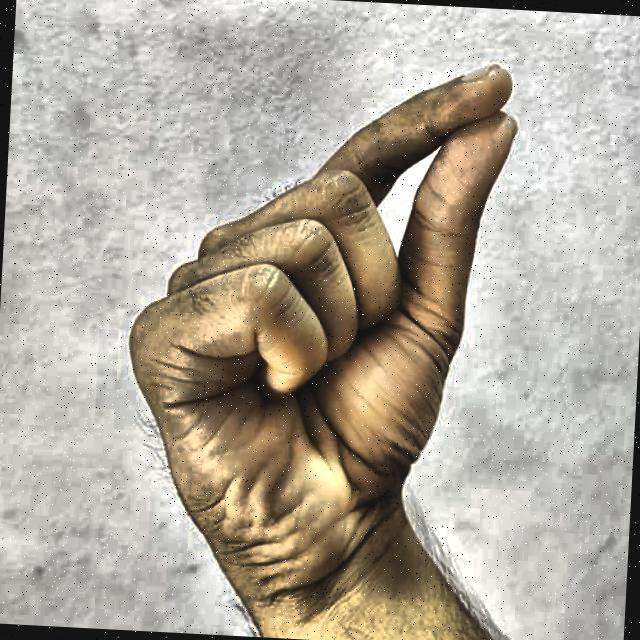Anusshar: (80, 7, 544, 628)
